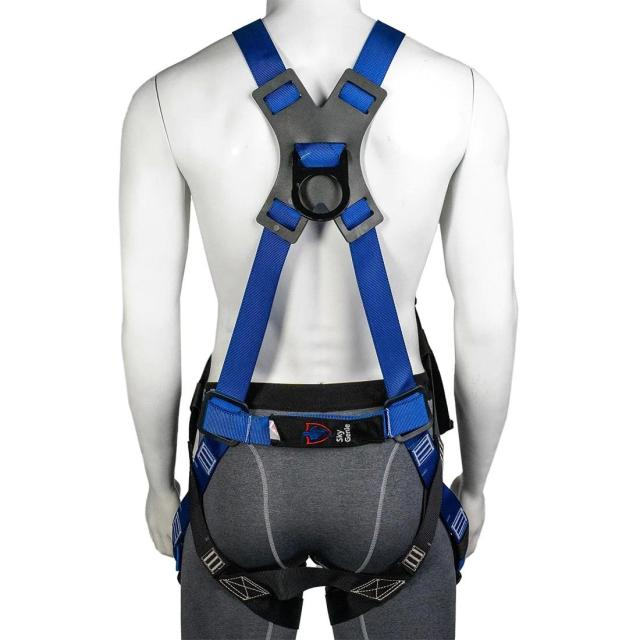Belt: (163, 11, 472, 629)
